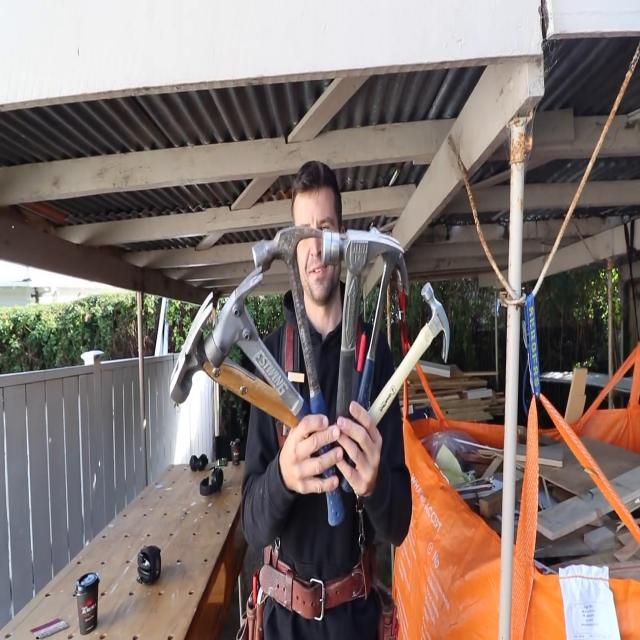hammer: (250, 216, 348, 528), (323, 191, 406, 496), (200, 262, 324, 452), (169, 289, 317, 442), (353, 205, 411, 501), (351, 275, 454, 440)
